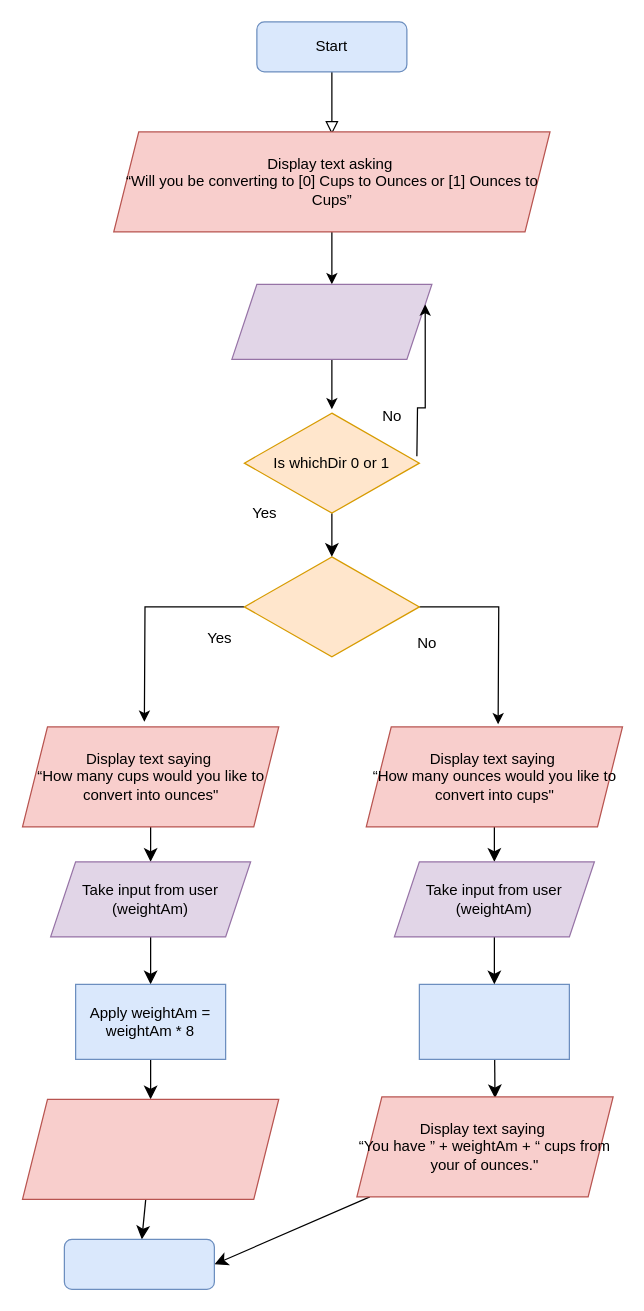
The diagram is 644 pixels wide and 1311 high, and some of its shapes have lost their labels. Here are the shapes that lost their labels. From the top down, the box of each, then its label:
(231, 283, 432, 359): Take input from user (whichDir)
(243, 556, 419, 657): If whichDir is 0
(418, 983, 569, 1059): Apply weightAm = weightAm / 8
(21, 1098, 279, 1199): Display text saying "You have “ + weightAm + “ ounces from your cups"
(63, 1238, 214, 1289): End/Stop
